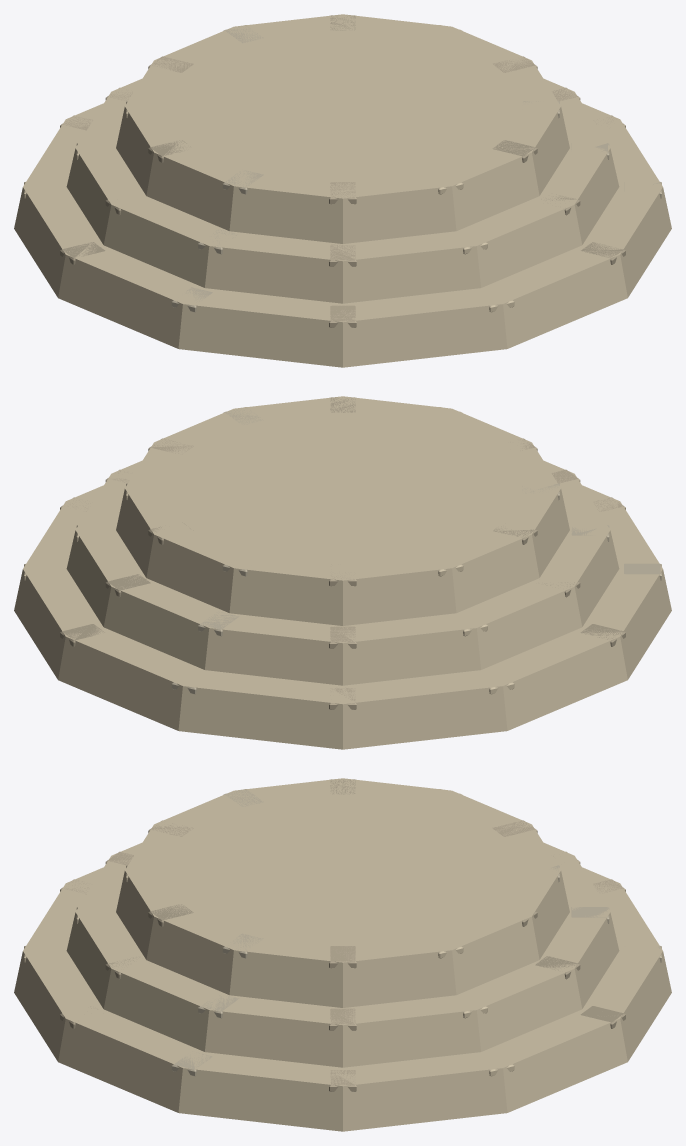
File: Dais_2m.fbx
The picture shows the model from 3 angles, top to bottom: view 1: azimuth 30°, elevation 25°; view 2: azimuth 150°, elevation 25°; view 3: azimuth 270°, elevation 25°; orthographic projection.
Parts seen in each view (by area): view 1: Dais_2m; view 2: Dais_2m; view 3: Dais_2m.
Part boxes in pixels (x1,y1,x2,y2): Dais_2m: (14,14,671,367); Dais_2m: (14,396,671,749); Dais_2m: (14,778,671,1131).
Bounding box in the file's own units: 2 × 0.41 × 2.
